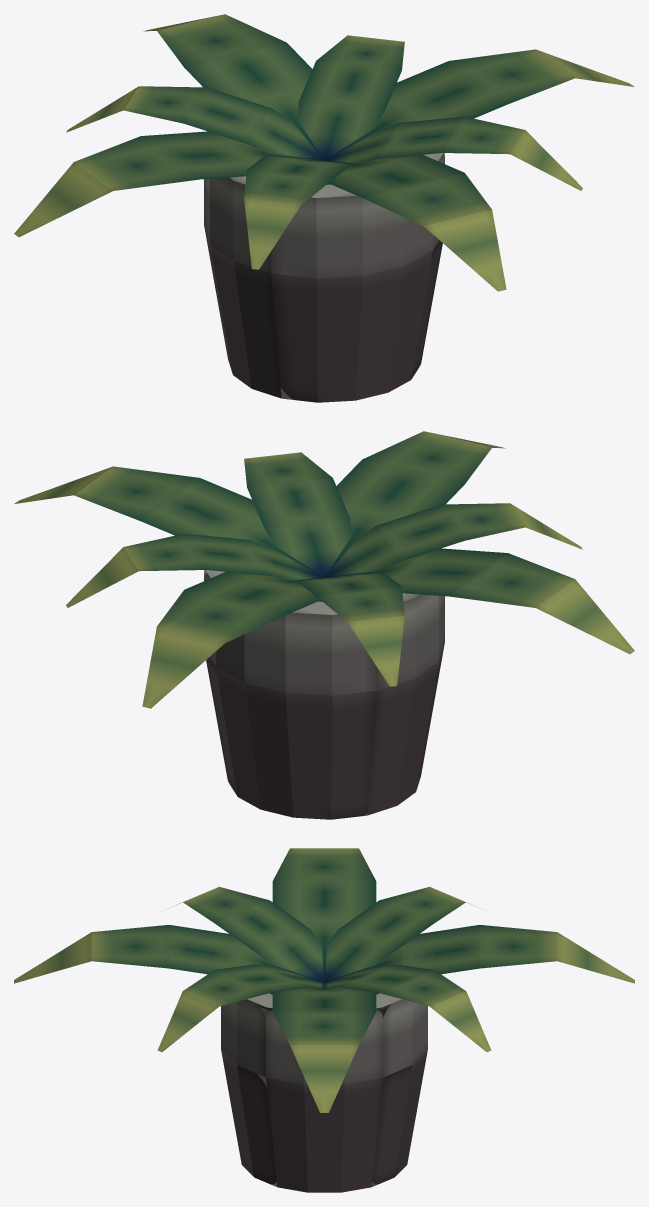
Rendered from pottedPlant.fbx.
The picture shows the model from 3 angles, top to bottom: view 1: azimuth 30°, elevation 25°; view 2: azimuth 150°, elevation 25°; view 3: azimuth 270°, elevation 25°; orthographic projection. The views are drawn at different scales.
Visible parts, largest first — view 1: pottedPlant; view 2: pottedPlant; view 3: pottedPlant.
Part boxes in pixels (x1,y1,x2,y2): pottedPlant: (14,14,634,402); pottedPlant: (14,431,634,819); pottedPlant: (14,848,634,1192).
Size of the model in its own units: 300 by 112 by 300.
